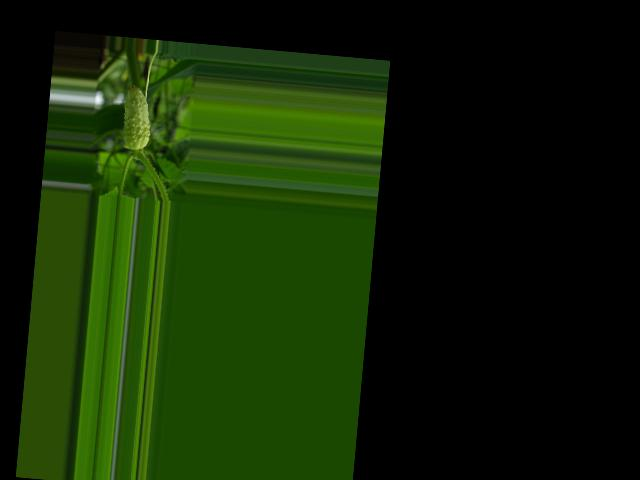cucumber: (121, 84, 154, 151)
